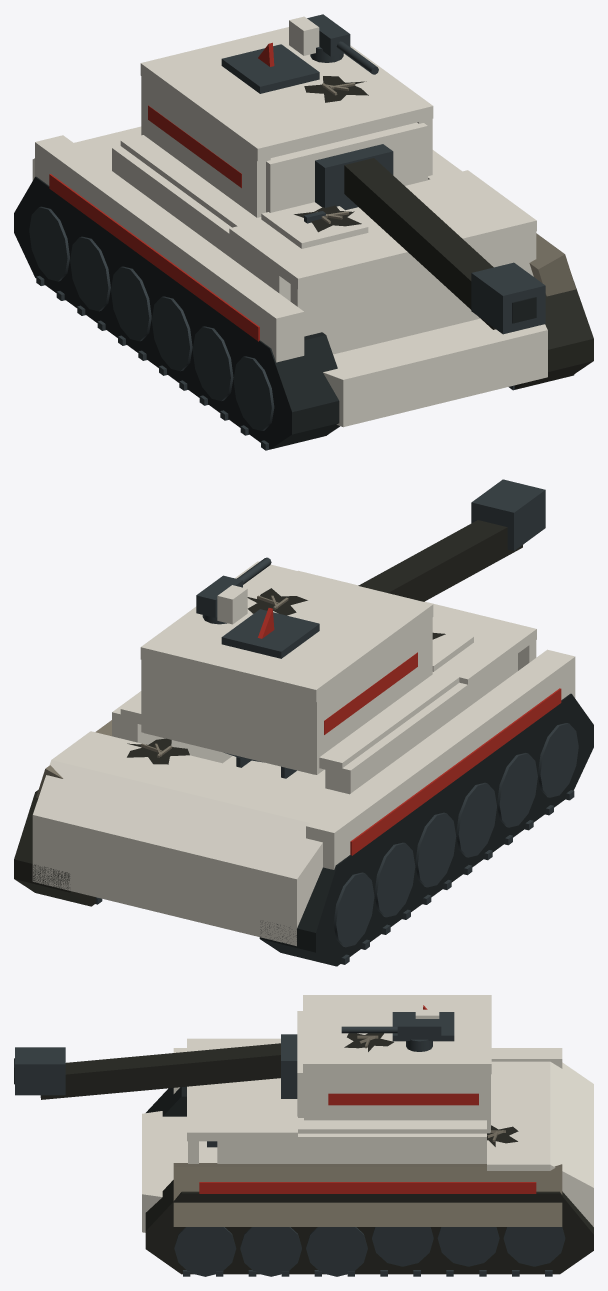
3 renders of one model, top to bottom at view 1: azimuth 30°, elevation 25°; view 2: azimuth 150°, elevation 25°; view 3: azimuth 270°, elevation 25°, orthographic. The views are drawn at different scales.
Visible parts, largest first — view 1: tank-damaged-fleet-armor, turret-fleet-armor, tank-damaged-fleet-rubber, tank-damaged-fleet-machine, cannon-recoil-painted, tank-damaged-fleet-damage-charred, tank-damaged-fleet-red, turret-fleet-machine, barrel-fleet-machine, tank-damaged-fleet-damage-metal, machine-gun-pitch-painted, turret-fleet-red; view 2: tank-damaged-fleet-armor, turret-fleet-armor, tank-damaged-fleet-rubber, tank-damaged-fleet-machine, cannon-recoil-painted, tank-damaged-fleet-damage-charred, tank-damaged-fleet-red, turret-fleet-machine, machine-gun-pitch-painted, turret-fleet-red, tank-damaged-fleet-damage-metal; view 3: tank-damaged-fleet-armor, turret-fleet-armor, tank-damaged-fleet-damage-metal, tank-damaged-fleet-machine, tank-damaged-fleet-damage-charred, cannon-recoil-painted, tank-damaged-fleet-red, turret-fleet-red, machine-gun-pitch-painted, barrel-fleet-machine, tank-damaged-fleet-rubber, turret-fleet-machine (+1 smaller).
Part boxes in pixels (x1,y1,x2,y2): tank-damaged-fleet-armor: (32,126,547,427); turret-fleet-armor: (140,27,433,217); tank-damaged-fleet-rubber: (14,176,339,449); tank-damaged-fleet-machine: (29,206,574,450); cannon-recoil-painted: (344,158,545,334); tank-damaged-fleet-damage-charred: (294,76,593,389); tank-damaged-fleet-red: (49,174,259,341); turret-fleet-machine: (221,44,319,93); barrel-fleet-machine: (315,144,393,210); tank-damaged-fleet-damage-metal: (316,82,575,296); machine-gun-pitch-painted: (289,14,350,56); turret-fleet-red: (148,42,274,188); tank-damaged-fleet-armor: (32,570,575,946); turret-fleet-armor: (140,561,433,774); tank-damaged-fleet-rubber: (259,693,593,966); tank-damaged-fleet-machine: (95,723,578,964); cannon-recoil-painted: (358,479,545,601); tank-damaged-fleet-damage-charred: (14,588,445,906); tank-damaged-fleet-red: (350,688,561,855); turret-fleet-machine: (221,609,319,658); machine-gun-pitch-painted: (196,575,247,624); turret-fleet-red: (258,608,417,734); tank-damaged-fleet-damage-metal: (36,595,288,797); tank-damaged-fleet-armor: (142,1038,593,1232); turret-fleet-armor: (297,995,491,1133); tank-damaged-fleet-damage-metal: (173,1035,562,1226); tank-damaged-fleet-machine: (174,1227,565,1276); tank-damaged-fleet-damage-charred: (145,1033,593,1274); cannon-recoil-painted: (14,1043,280,1099); tank-damaged-fleet-red: (199,1182,536,1193); turret-fleet-red: (328,1005,478,1105); machine-gun-pitch-painted: (397,1009,441,1040); barrel-fleet-machine: (281,1034,297,1098); tank-damaged-fleet-rubber: (146,1086,186,1116); turret-fleet-machine: (392,1012,454,1041).
Size of the model in its own units: 21.41 by 17.67 by 42.63.
